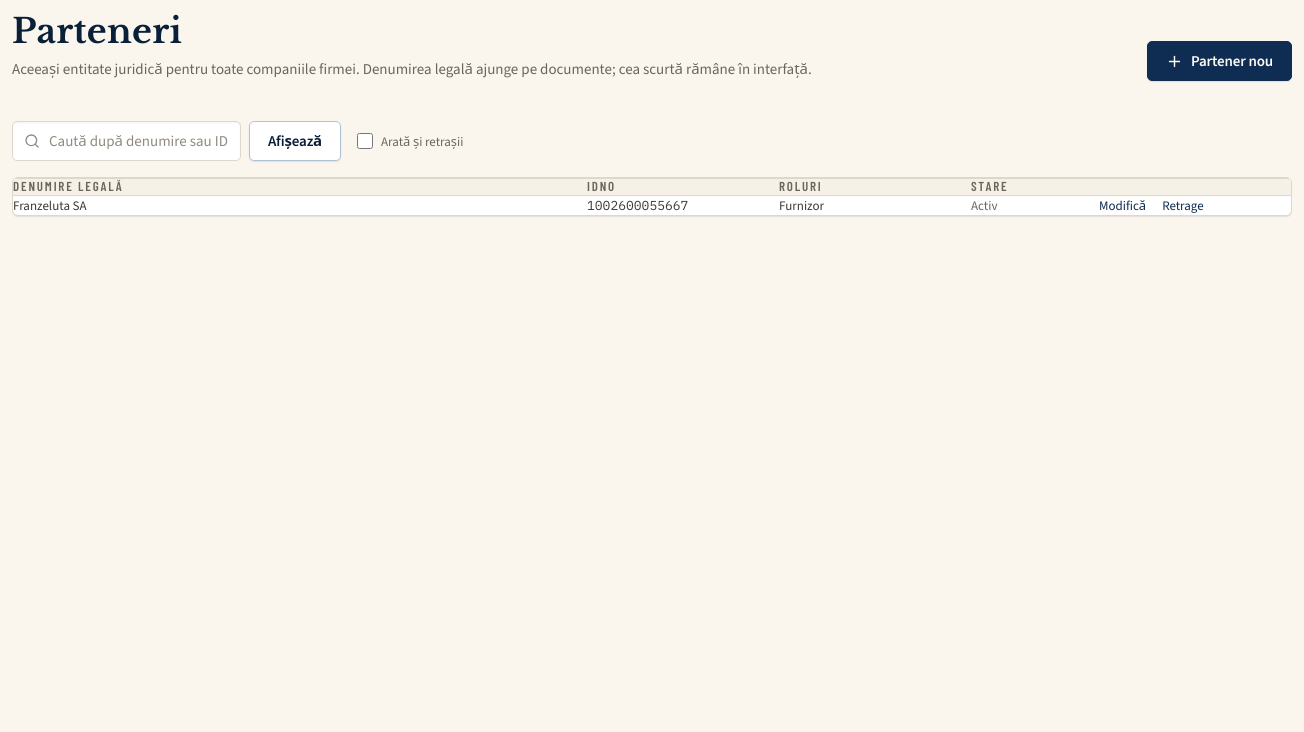
Test: ecranele › un partener se modifică din listă, iar IDNO-ul nu e câmp de formular
What coordinates should you click on to do the following:
click the button "Modifică"
I would click on:
 (1123, 206)
Its box is 1099,196 -> 1146,215.
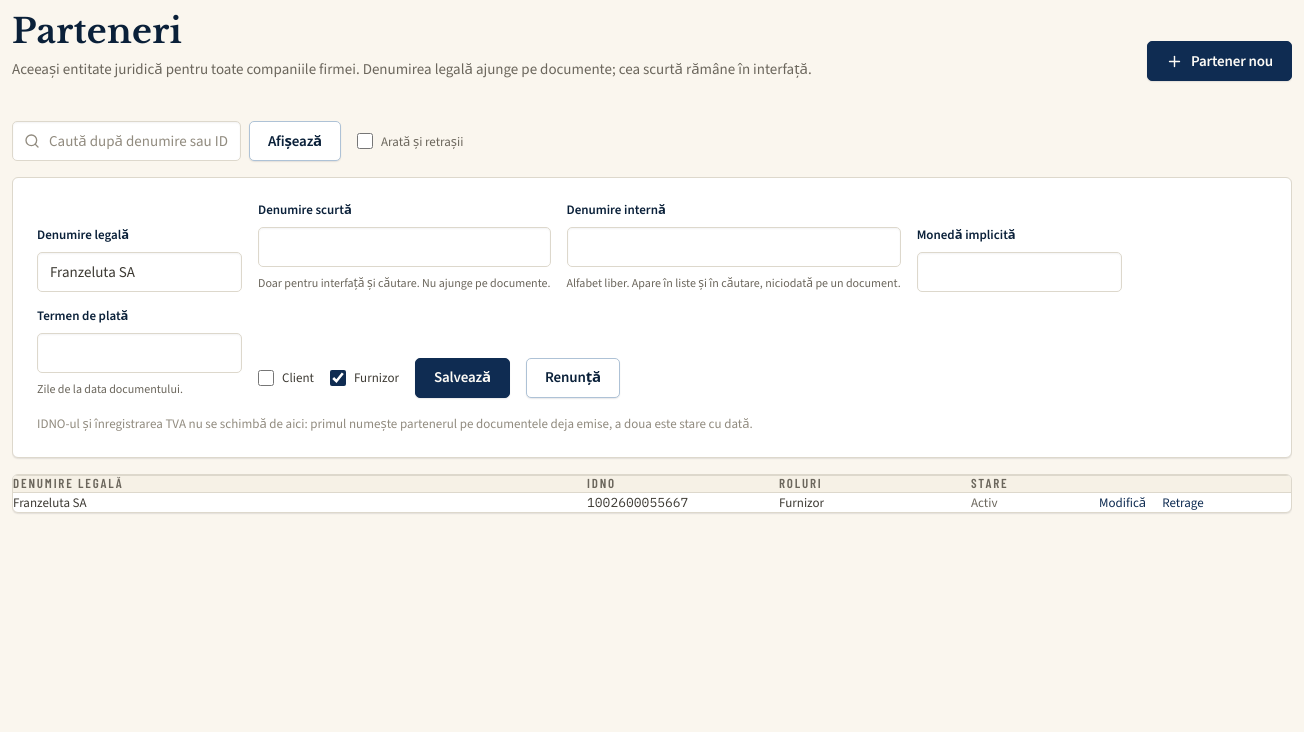
Expected: the field showing "Franzeluta SA" is shown, 37,252 -> 242,292
Expected: the text "IDNO-ul și înregistrarea TVA nu se schimbă de aici" is shown, 37,415 -> 753,432
